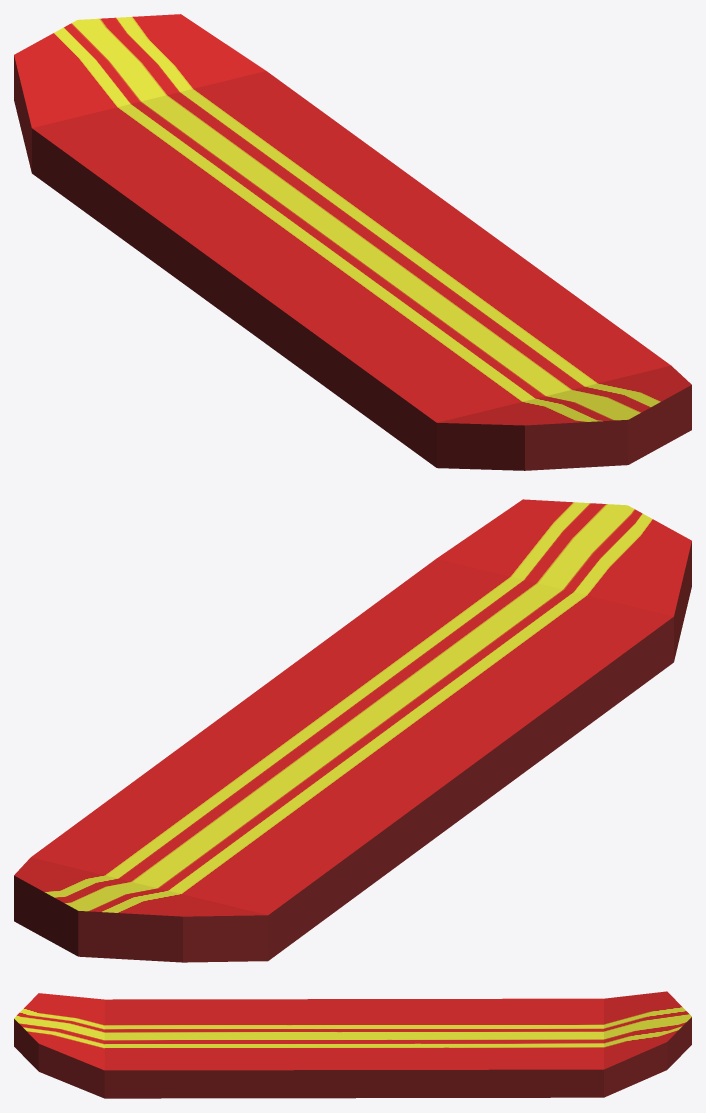
The model's file is patineta-sin-ruedas.fbx.
The picture shows the model from 3 angles, top to bottom: view 1: azimuth 30°, elevation 25°; view 2: azimuth 150°, elevation 25°; view 3: azimuth 270°, elevation 25°; orthographic projection. The views are drawn at different scales.
Parts seen in each view (by area): view 1: Cylinder.001; view 2: Cylinder.001; view 3: Cylinder.001.
Boxes of the visible parts, x1=… form: Cylinder.001: x1=14, y1=14, x2=691, y2=470; Cylinder.001: x1=14, y1=499, x2=691, y2=962; Cylinder.001: x1=14, y1=991, x2=691, y2=1098.
Bounding box in the file's own units: 69.18 × 20.54 × 277.
